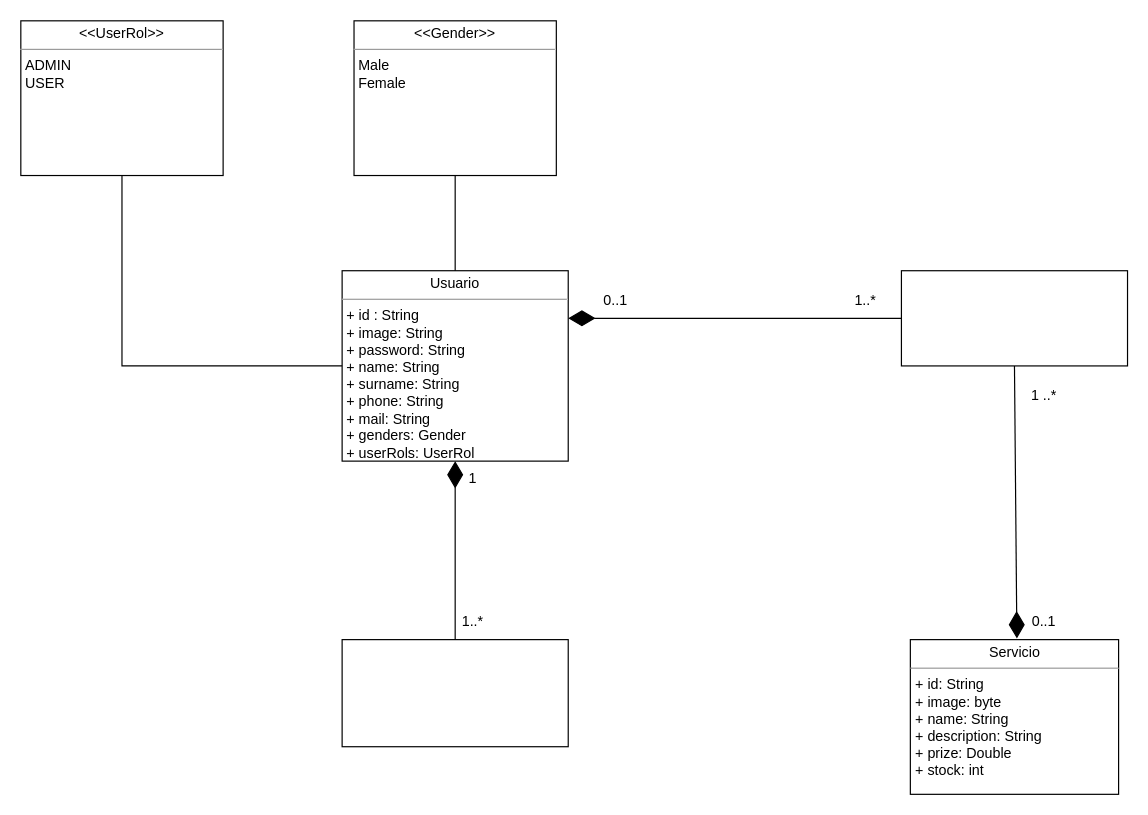
Some shapes in this 1148 by 815 pixel diagram are drawn without their labels. The shapes that lost their labels are listed below. From the top down, each one's box as (x1, y1, x2, y2) in pixels, then its label:
(900, 270, 1128, 366): Cita + id: String + day: Date + hour: Time
(341, 638, 568, 747): Login + id : String + token: String + instance: DateTime
